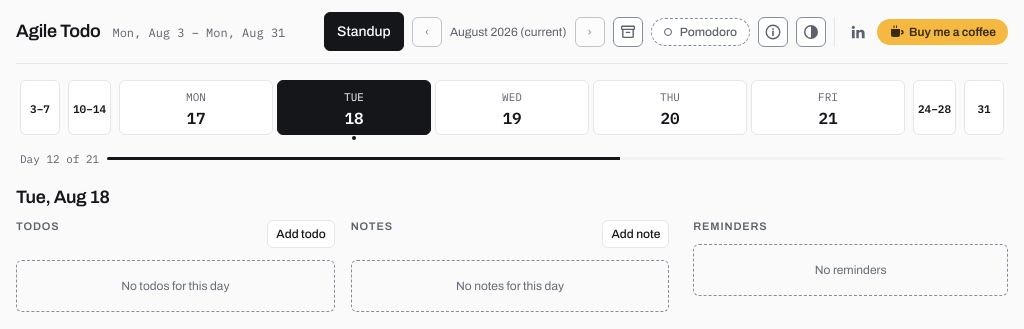
Test: App shell › navigates days via chips
This screenshot has width=1024, height=329.
Click the button with aria-label "Wed, Aug 19".
click(512, 107)  # box [435,80,589,134]
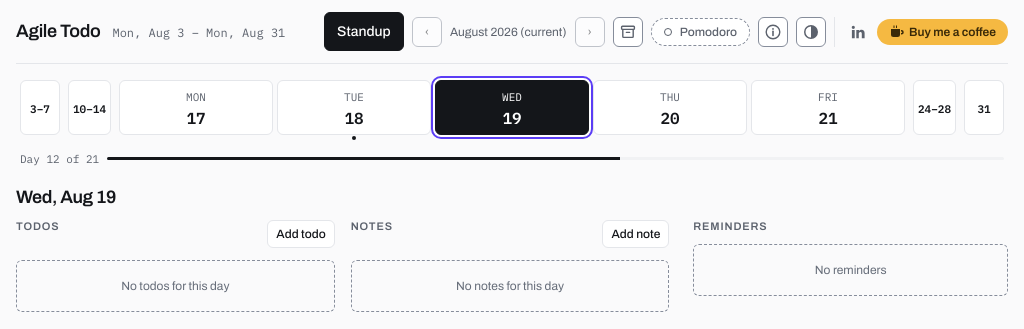
Now the heading "Wed, Aug 19" is shown, box [16,187,116,207]
Click the button with aria-label "Tue, Aug 18".
click(354, 107)  # box [277,80,431,134]
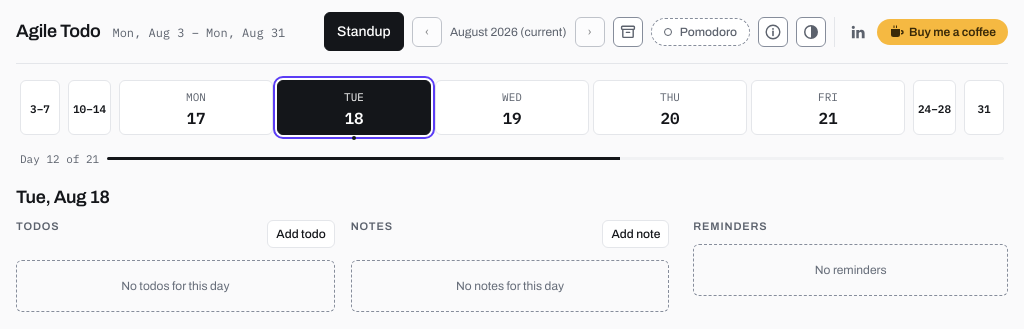
Now the heading "Tue, Aug 18" is shown, box [16,187,110,207]
